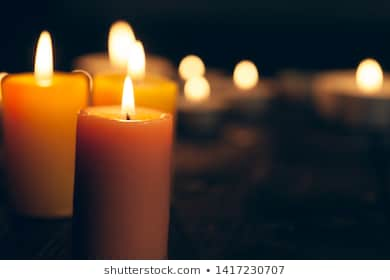Fire: (106, 19, 134, 66), (32, 31, 58, 79), (231, 59, 261, 91), (355, 58, 383, 91), (183, 77, 213, 104), (129, 40, 149, 77), (178, 53, 206, 79), (119, 77, 138, 115)
